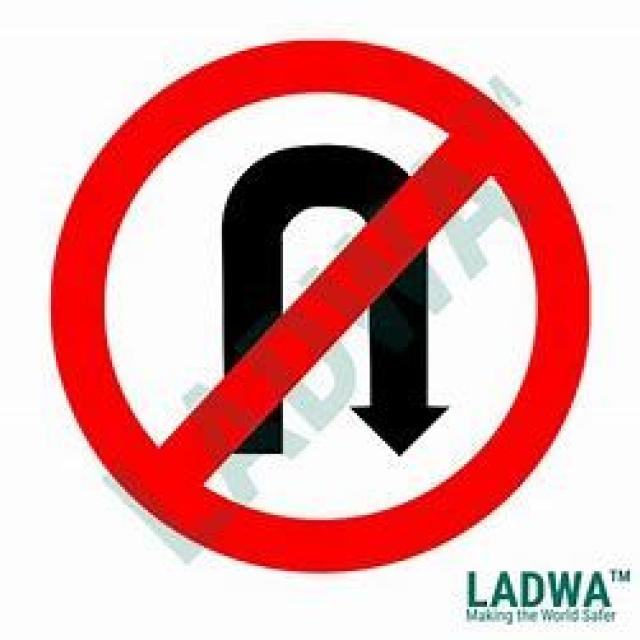U_TURN_PROHIBITED: (44, 30, 607, 585)
